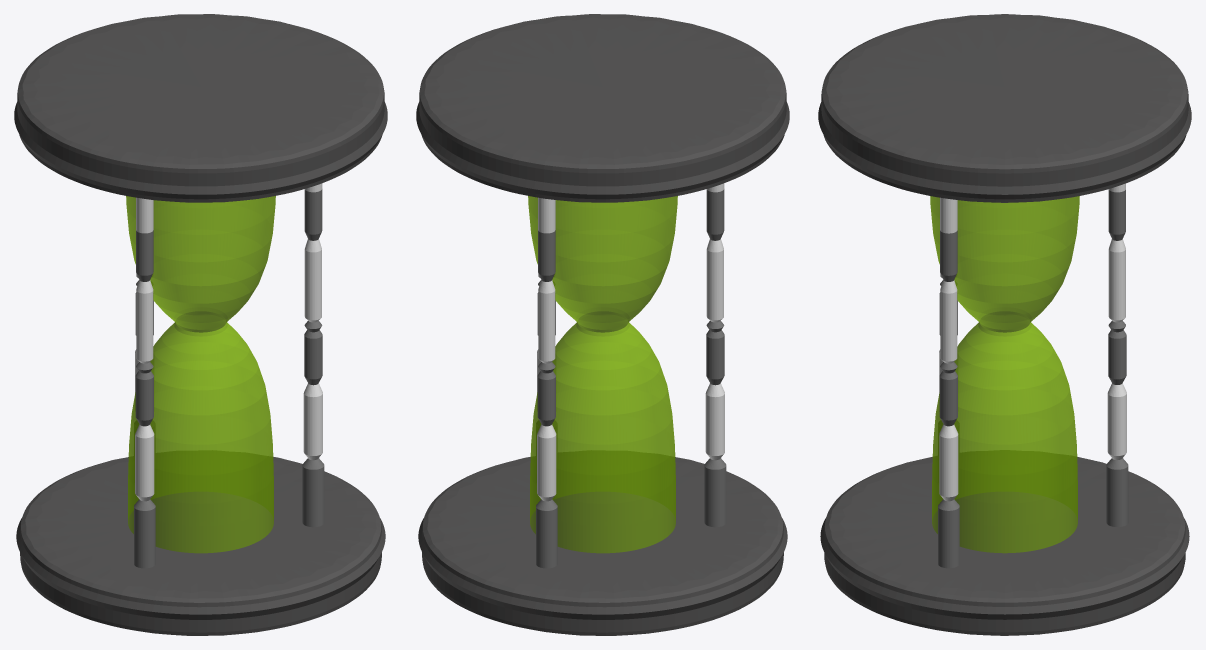
The model's file is sandclock2.fbx.
The picture shows the model from 3 angles, left to right: view 1: azimuth 30°, elevation 25°; view 2: azimuth 150°, elevation 25°; view 3: azimuth 270°, elevation 25°; orthographic projection.
Parts seen in each view (by area): view 1: Bottom_Plate.001, Bottom_Plate, 円柱, Piller1.001, Piller1.002; view 2: Bottom_Plate.001, Bottom_Plate, 円柱, Piller1.003, Piller1.001; view 3: Bottom_Plate.001, Bottom_Plate, 円柱, Piller1.002, Piller1.003.
Part boxes in pixels (x1=…): Bottom_Plate.001: x1=14, y1=14, x2=387, y2=202; Bottom_Plate: x1=16, y1=457, x2=385, y2=635; 円柱: x1=126, y1=196, x2=275, y2=553; Piller1.001: x1=134, y1=197, x2=155, y2=568; Piller1.002: x1=302, y1=183, x2=324, y2=527; Bottom_Plate.001: x1=416, y1=14, x2=789, y2=202; Bottom_Plate: x1=418, y1=457, x2=787, y2=635; 円柱: x1=528, y1=196, x2=677, y2=553; Piller1.003: x1=536, y1=197, x2=557, y2=568; Piller1.001: x1=704, y1=183, x2=726, y2=527; Bottom_Plate.001: x1=818, y1=14, x2=1191, y2=202; Bottom_Plate: x1=820, y1=457, x2=1189, y2=635; 円柱: x1=930, y1=196, x2=1079, y2=553; Piller1.002: x1=938, y1=197, x2=959, y2=568; Piller1.003: x1=1106, y1=183, x2=1128, y2=526.
Size of the model in its own units: 278 by 390 by 278.
